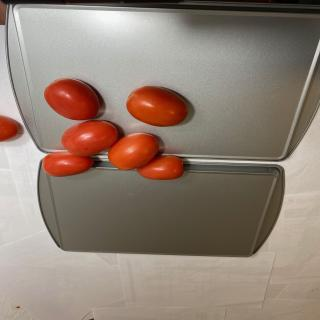Tomato: (126, 85, 189, 127), (44, 78, 100, 120), (61, 120, 118, 157), (108, 133, 159, 170), (42, 151, 94, 177), (137, 155, 184, 180), (0, 115, 19, 142)
